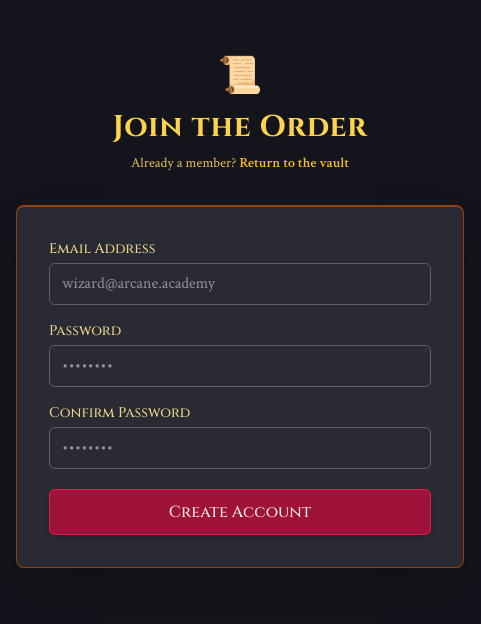
Test: RegisterPage › shows an error message when registration fails with field errors
Type "taken@test.com" into the field labelled "Email Address" at (240, 284), box [49,262,431,304]
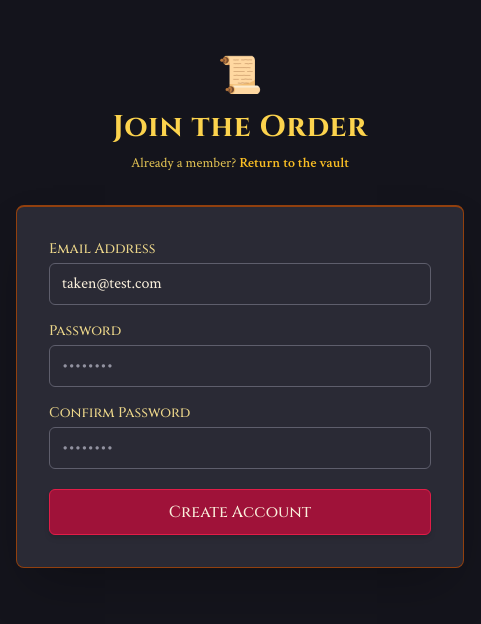
Type "password123" into the password field labelled "Password" at (240, 366), box [49,344,431,386]
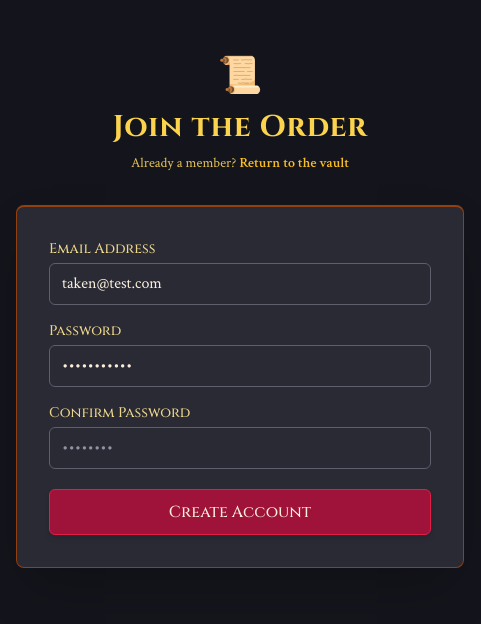
Type "password123" into the password field labelled "Confirm Password" at (240, 448), box [49,426,431,468]
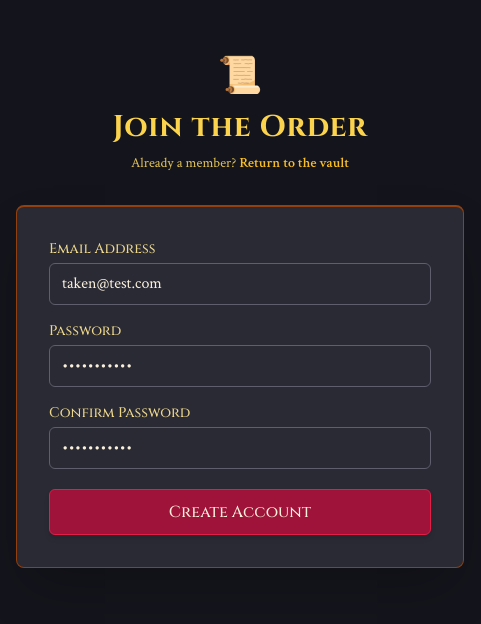
Click the button "Create Account" at (240, 512), box [49,488,431,534]
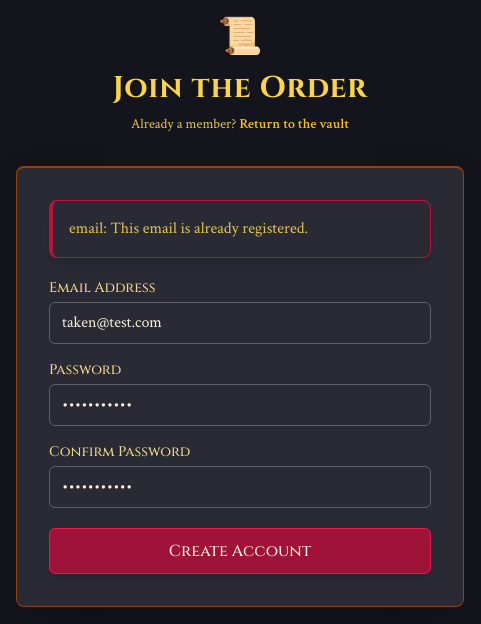
Expected: the text "email: This email is already registered." is shown, [69,218,308,238]
